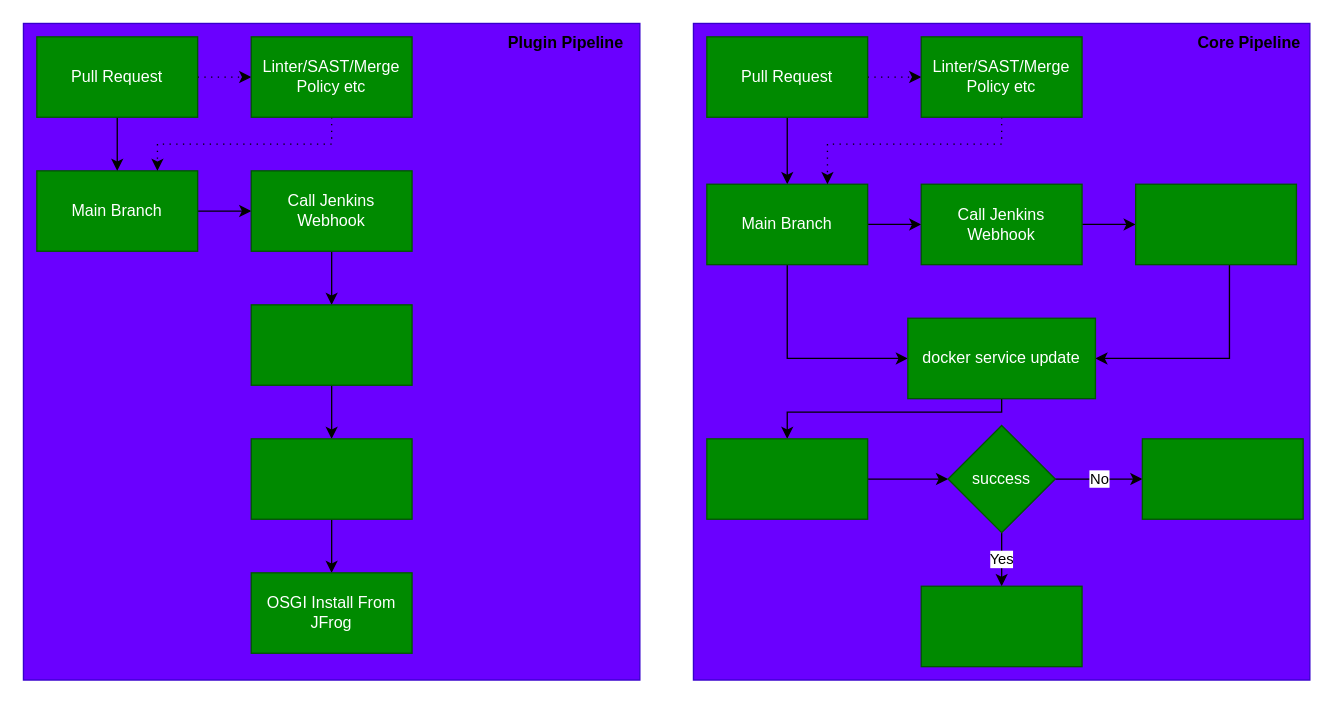
The diagram is 1333 pixels wide and 704 high, and some of its shapes have lost their labels. Each missing label, with the centre of its shape:
"Build Docker Image" belongs at point 1215,224.
"Build Maven" belongs at point 331,344.
"deployed" belongs at point 1001,626.
"docker service rollback" belongs at point 1222,478.
"Healthcheck" belongs at point 787,478.
"Push to JFrog" belongs at point 331,478.
